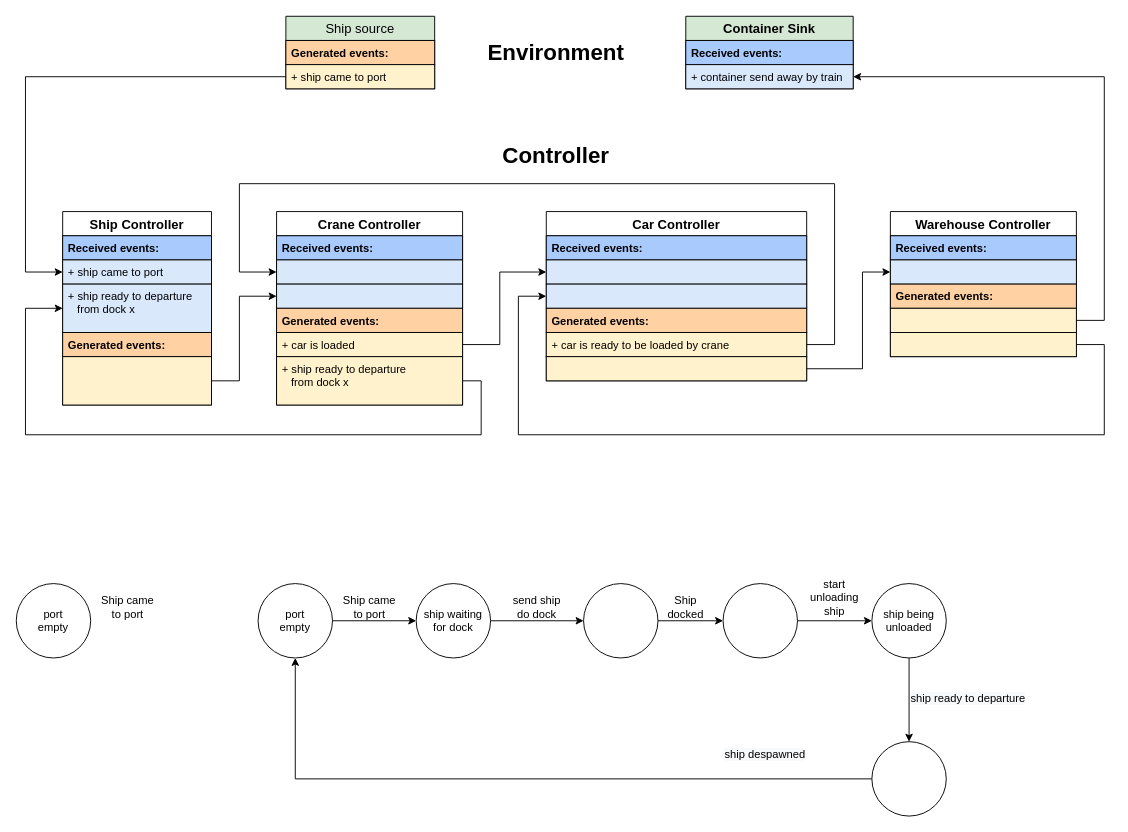
The diagram is 1128 pixels wide and 832 high, and some of its shapes have lost their labels. Here are the shapes that lost their labels. From the top down, the centre of each, then its label:
At [369,271]: "+ car is ready to be loaded".
At [676,271]: "+ car is loaded by crane".
At [982,271]: "+ car ready to be unloaded".
At [369,295]: "+ ship ready to load/unload".
At [676,295]: "+ car is unloaded by warehouse".
At [982,319]: "+ contrainer placed on train".
At [982,344]: "+ car unloaded by warehouse".
At [136,380]: "+ start loading/unloading ship in dock x".
At [676,368]: "+ car is ready to be unloaded by warehouse".
At [620,620]: "ship coming to dock".
At [759,620]: "ship at dock, ready to be unloaded".
At [908,778]: "ship sailing away".
